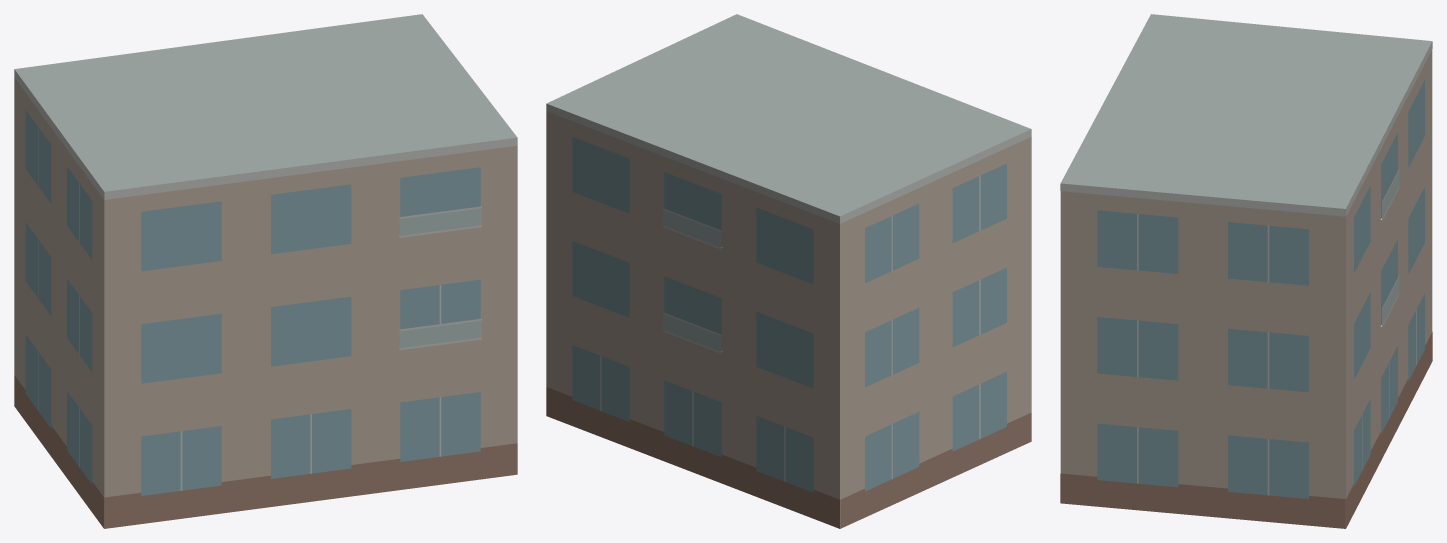
Rendered from survey-upis-32993651.glb.
The picture shows the model from 3 angles, left to right: view 1: azimuth 30°, elevation 25°; view 2: azimuth 150°, elevation 25°; view 3: azimuth 270°, elevation 25°; orthographic projection. The views are drawn at different scales.
Visible parts, largest first — view 1: survey-upis-32993651.tmp; view 2: survey-upis-32993651.tmp; view 3: survey-upis-32993651.tmp.
Part boxes in pixels (x1,y1,x2,y2): survey-upis-32993651.tmp: (14,14,517,528); survey-upis-32993651.tmp: (546,14,1031,528); survey-upis-32993651.tmp: (1060,14,1432,528).
Bounding box in the file's own units: 13.21 × 10.1 × 10.66.
